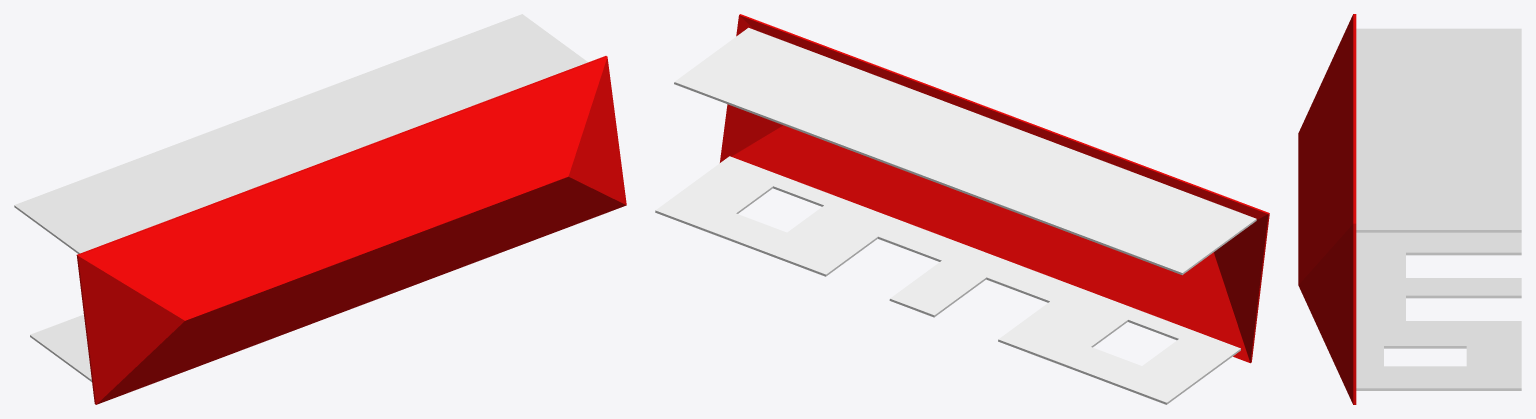
The picture shows the model from 3 angles, left to right: view 1: azimuth 30°, elevation 25°; view 2: azimuth 150°, elevation 25°; view 3: azimuth 270°, elevation 25°; orthographic projection. The views are drawn at different scales.
Visible parts, largest first — view 1: 0_3_1_2_0; view 2: 0_3_1_2_0; view 3: 0_3_1_2_0.
Boxes of the visible parts, x1,y1,x2,y2 form: 0_3_1_2_0: [14, 14, 626, 404]; 0_3_1_2_0: [655, 14, 1269, 404]; 0_3_1_2_0: [1298, 14, 1521, 404].
Size of the model in its own units: 12.81 by 4.98 by 4.05.
